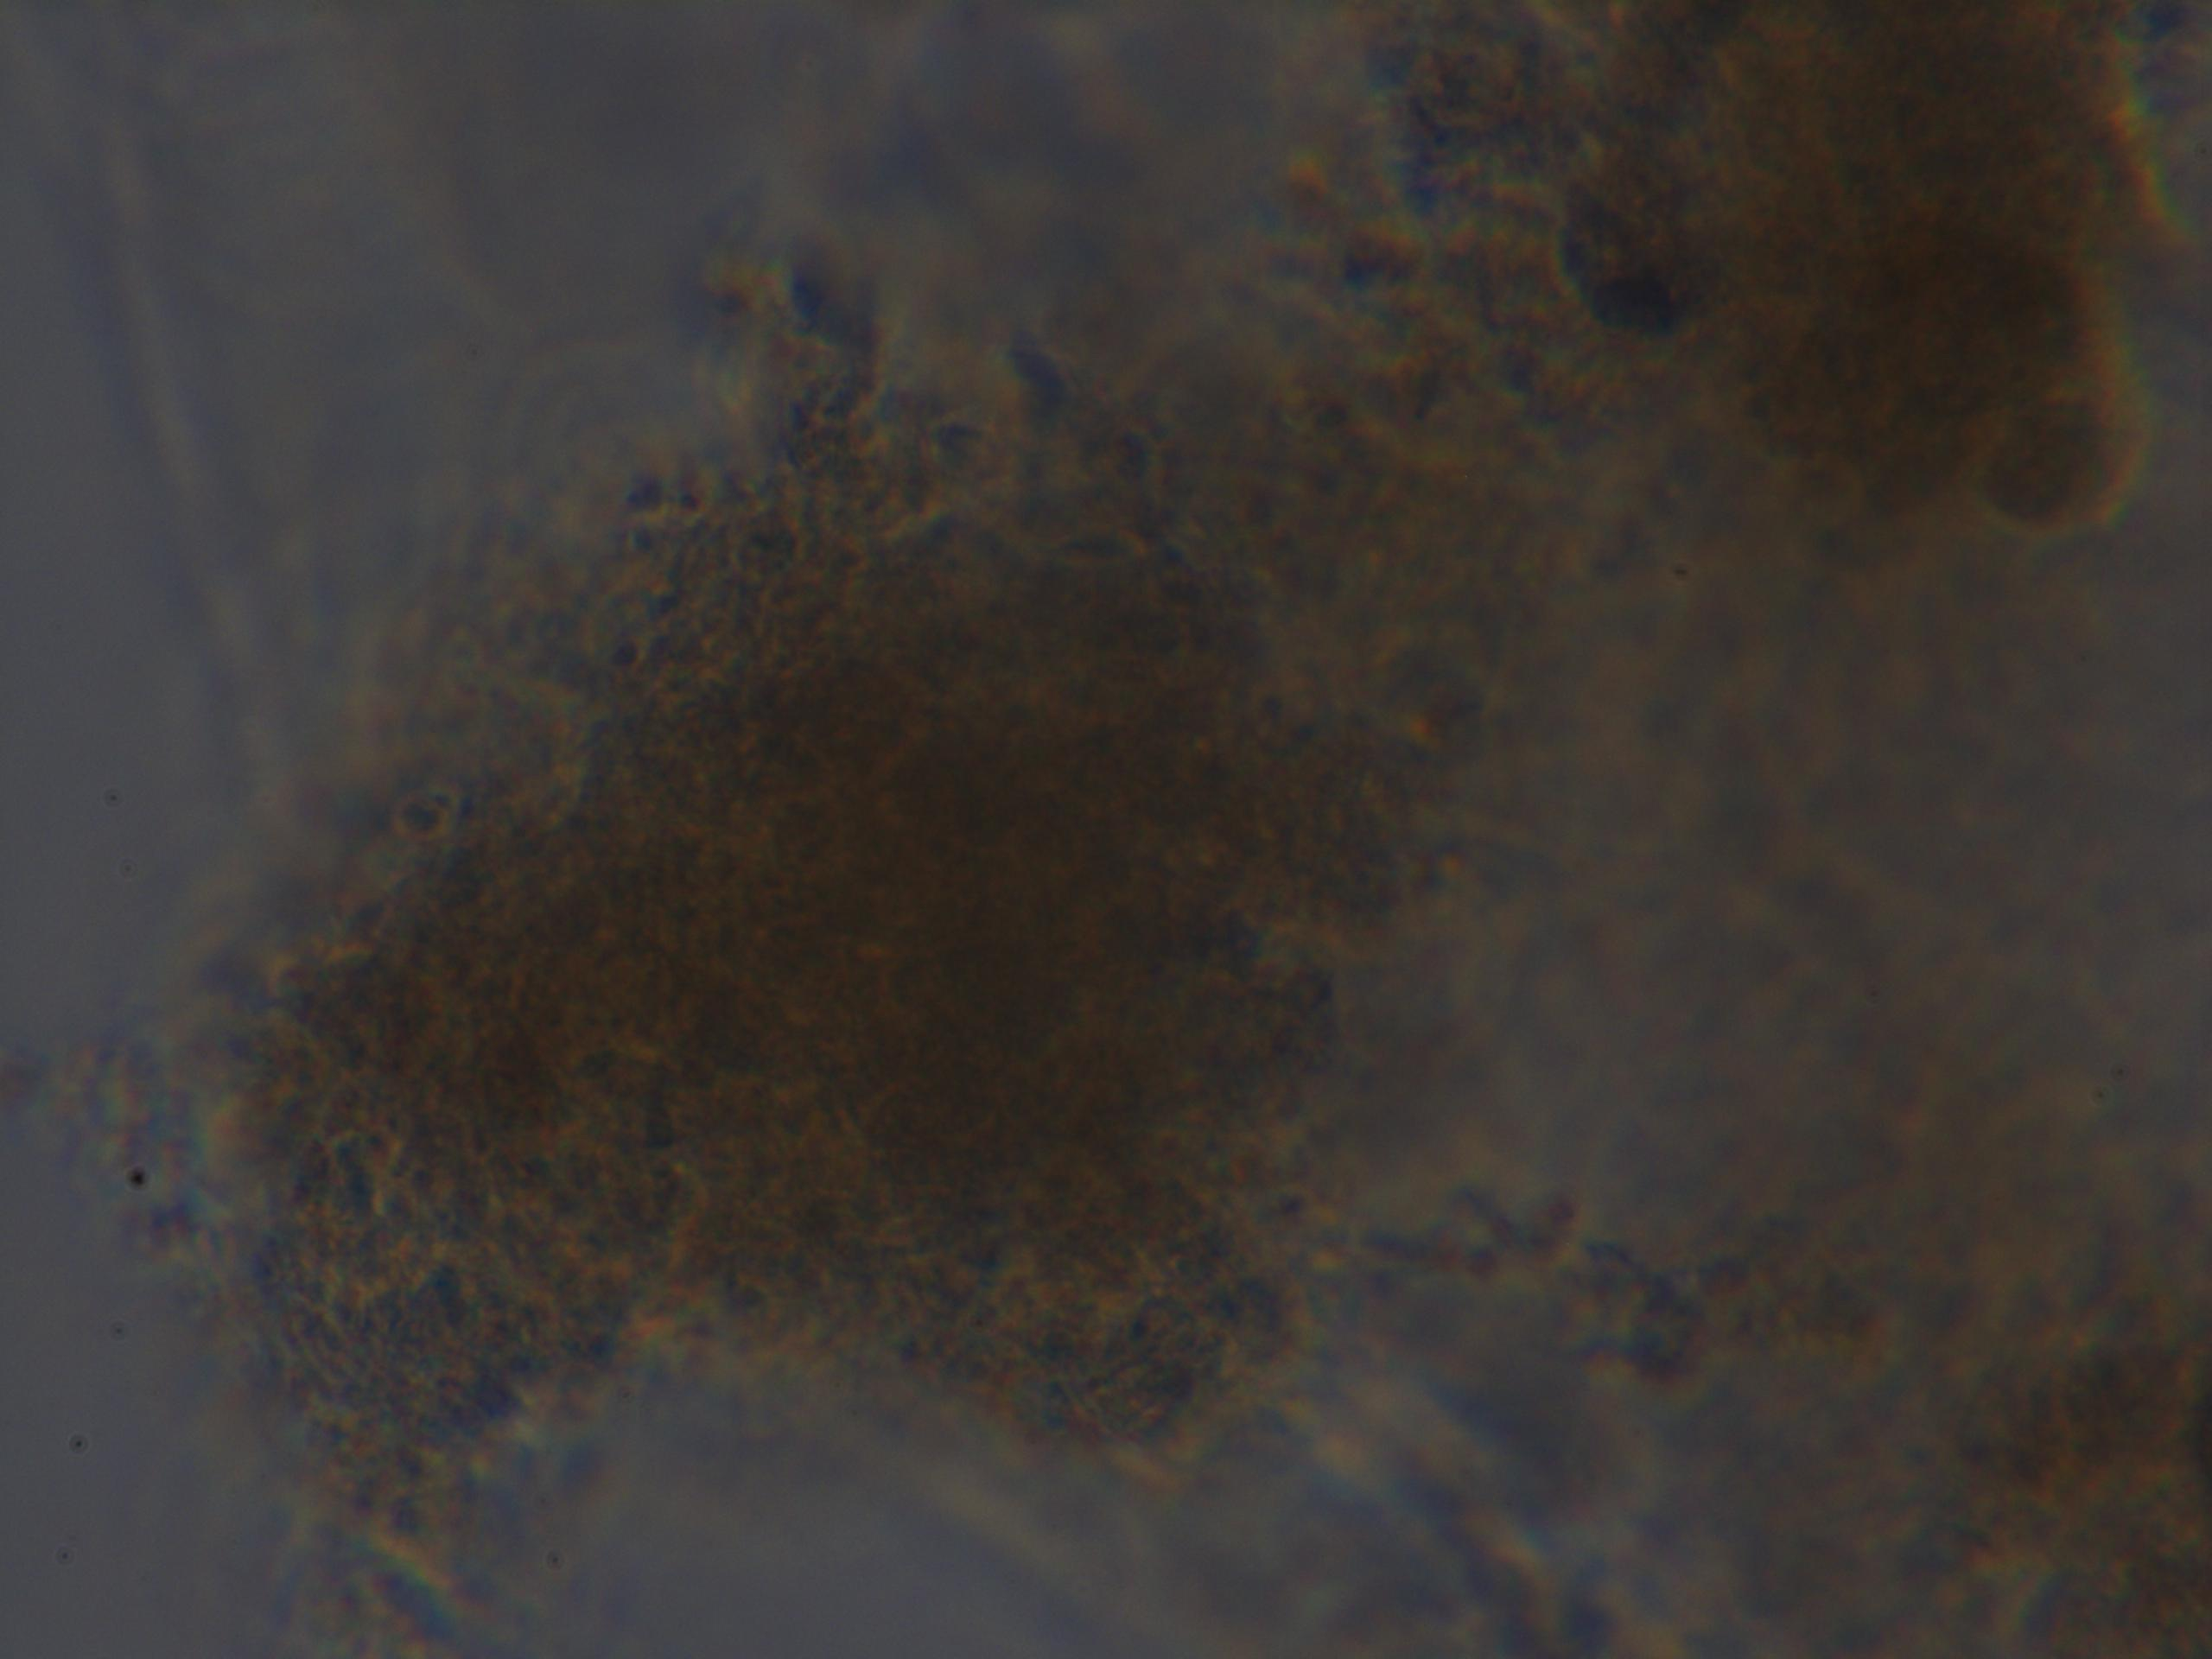spherical_floc: (219, 362, 1468, 1513)
